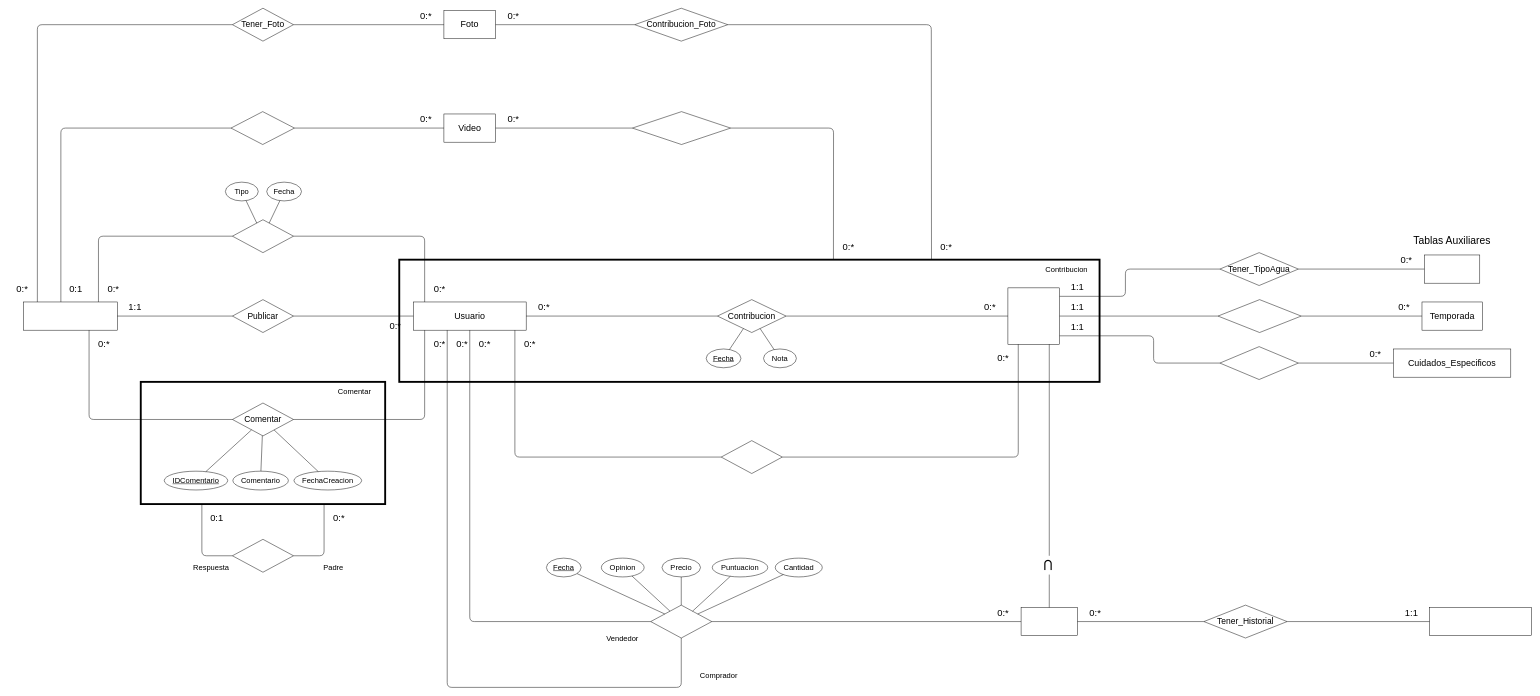
This 1540x696 diagram has some shape labels left out. The box of each missing label's shape, as (x1, y1, x2, y2) in pixels:
Compra: (650, 605, 712, 638)
Contribucion_Video: (632, 111, 731, 145)
Especie: (1007, 287, 1060, 344)
Gustar: (721, 440, 782, 474)
Historial_Precios: (1429, 607, 1531, 636)
Producto: (1021, 607, 1077, 636)
Publicacion: (23, 302, 117, 330)
Reaccionar: (232, 219, 294, 253)
Responder: (232, 539, 294, 572)
Tener_Cuidados: (1219, 346, 1298, 380)
Tener_Temporada: (1218, 299, 1301, 333)
Tener_Video: (231, 111, 294, 145)
TipoAgua: (1424, 255, 1480, 283)
